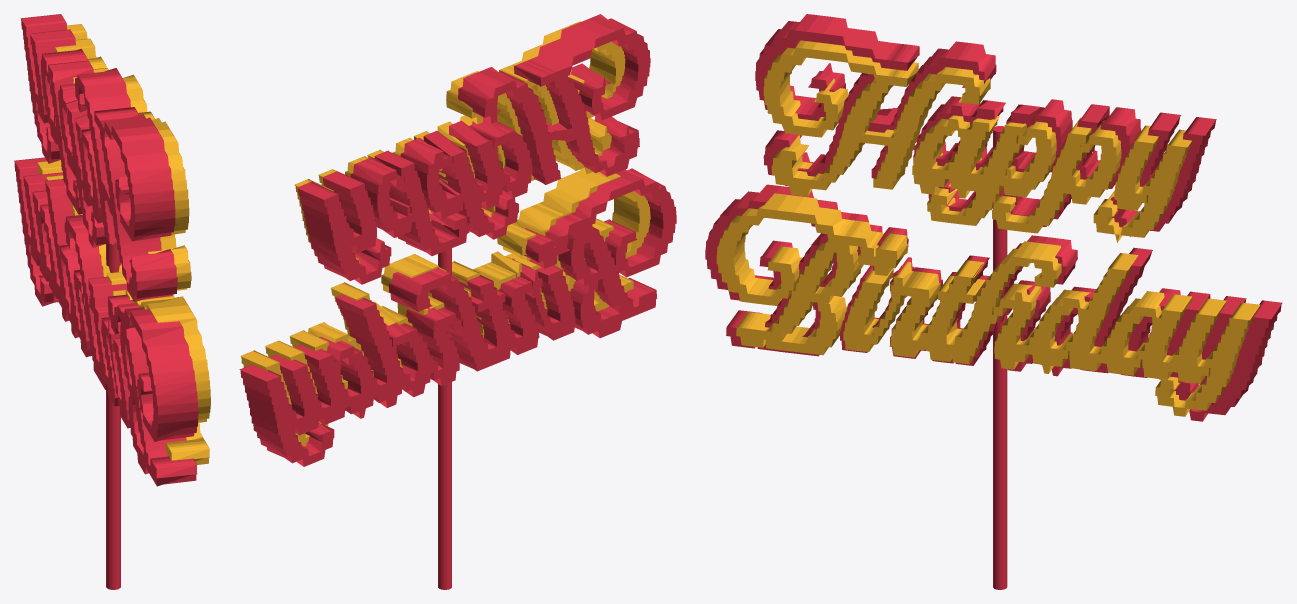
The model's file is red-topper-draco.glb.
The picture shows the model from 3 angles, left to right: view 1: azimuth 30°, elevation 25°; view 2: azimuth 150°, elevation 25°; view 3: azimuth 270°, elevation 25°; orthographic projection. The views are drawn at different scales.
Visible parts, largest first — view 1: Cylinder; view 2: Cylinder; view 3: Cylinder.
Boxes of the visible parts, x1=… form: Cylinder: x1=14, y1=14, x2=210, y2=589; Cylinder: x1=239, y1=14, x2=676, y2=589; Cylinder: x1=705, y1=14, x2=1282, y2=589.
Bounding box in the file's own units: 3.07 × 8.39 × 8.28.
